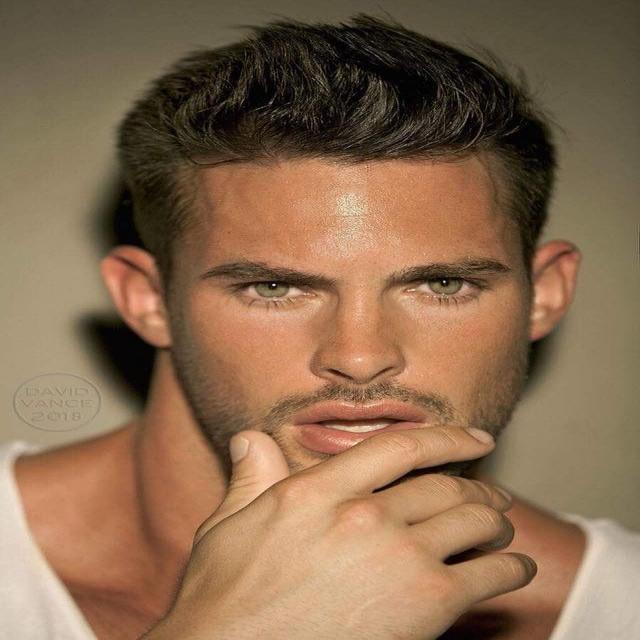earlobe: (144, 320, 172, 348), (529, 312, 551, 342)
eye: (236, 280, 312, 302), (410, 276, 481, 297)
nose: (315, 368, 411, 408)
wholeear: (98, 245, 172, 348), (529, 240, 584, 341)
